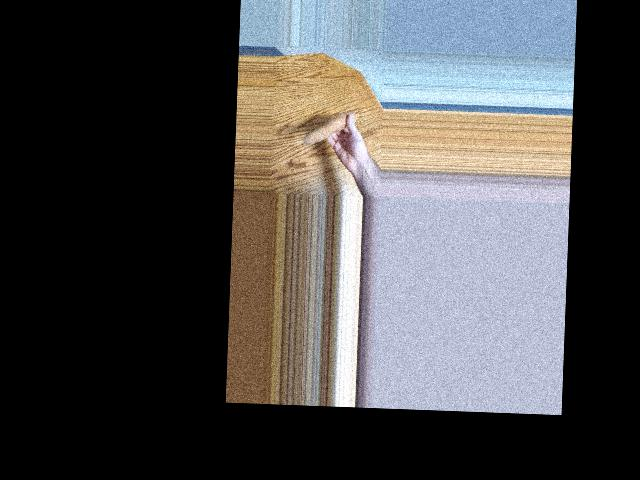sweet_potato: (303, 109, 358, 147)
